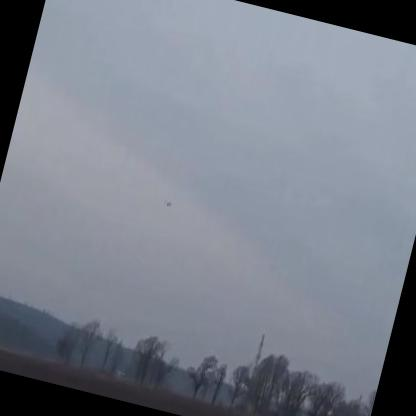plane: (163, 196, 178, 212)
